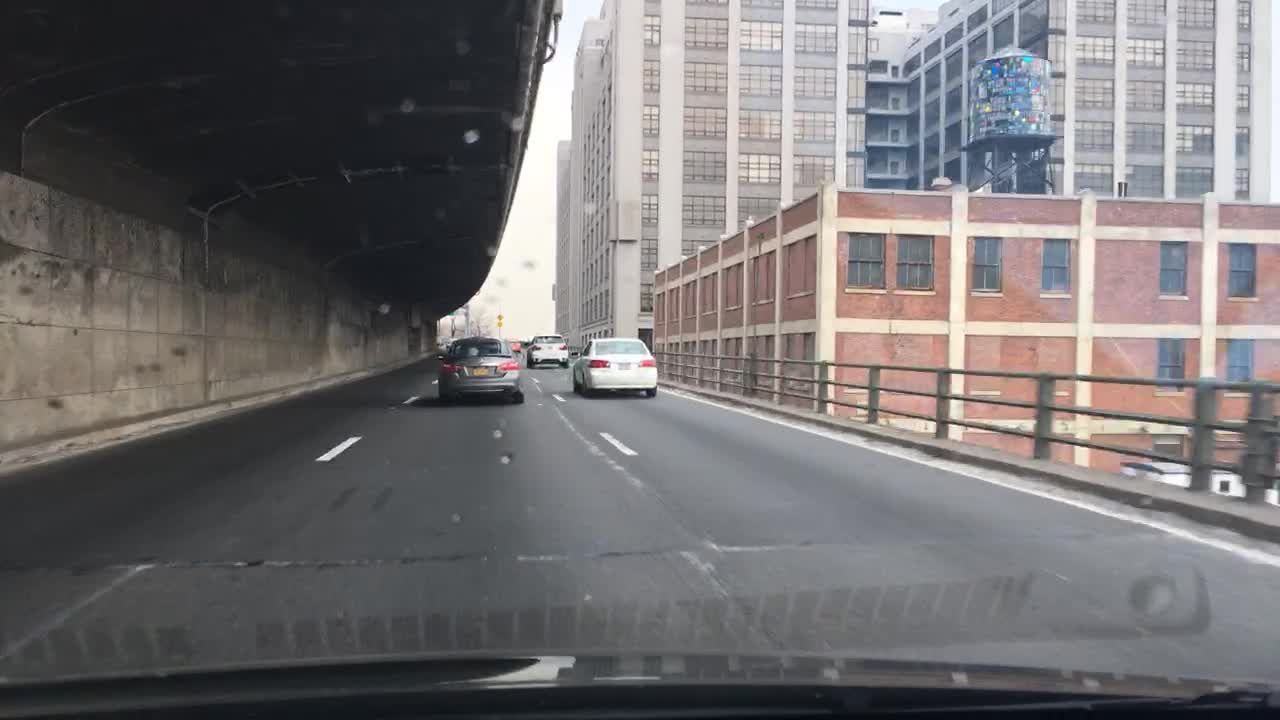car: (435, 336, 525, 405), (573, 339, 660, 398), (526, 334, 572, 370), (510, 338, 521, 353)
traffic sign: (494, 314, 505, 326), (446, 306, 455, 318)
